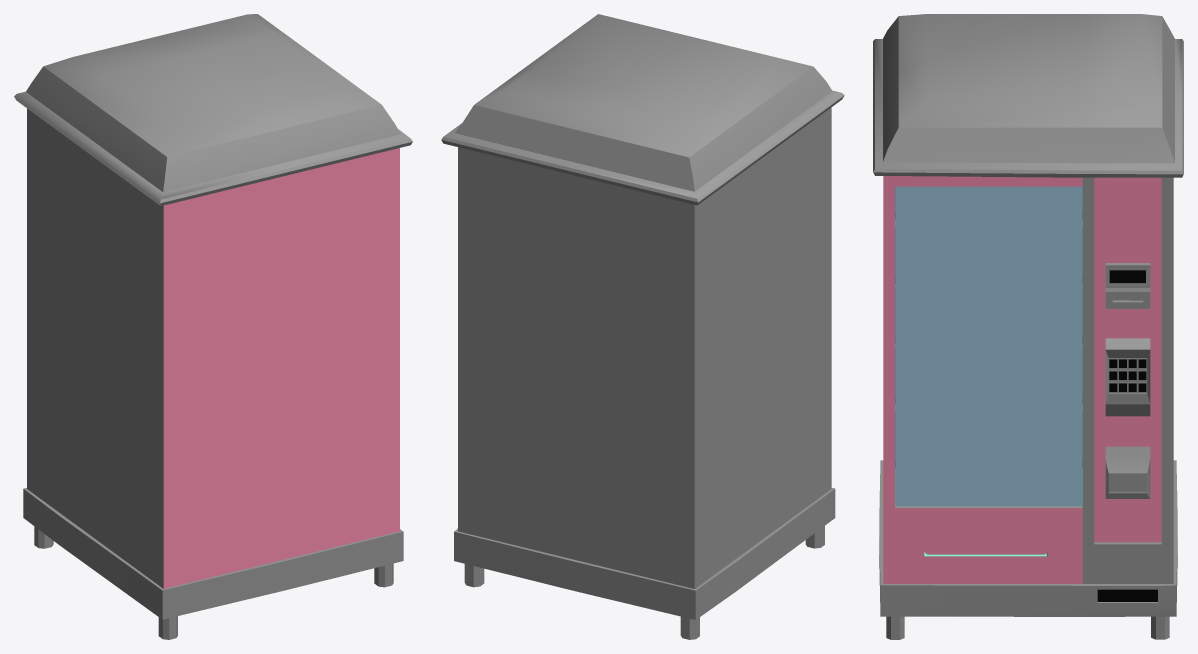
The model's file is VD_Machine2.fbx.
The picture shows the model from 3 angles, left to right: view 1: azimuth 30°, elevation 25°; view 2: azimuth 150°, elevation 25°; view 3: azimuth 270°, elevation 25°; orthographic projection. The views are drawn at different scales.
Visible parts, largest first — view 1: VD_Machine; view 2: VD_Machine; view 3: VD_Machine, Luke, Polka.
Part boxes in pixels (box(x1,y1,x2,y2)): VD_Machine: box(14, 14, 412, 639); VD_Machine: box(441, 14, 844, 639); VD_Machine: box(873, 14, 1183, 639); Luke: box(924, 524, 1047, 554); Polka: box(895, 187, 1082, 467).
Bounding box in the file's own units: 217 × 396 × 214.
